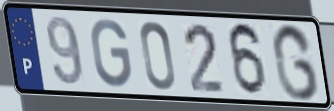0: (138, 19, 178, 93)
2: (181, 21, 227, 96)
6: (227, 20, 272, 100)
9: (44, 14, 86, 88)
G: (270, 21, 322, 103), (89, 17, 134, 90)
